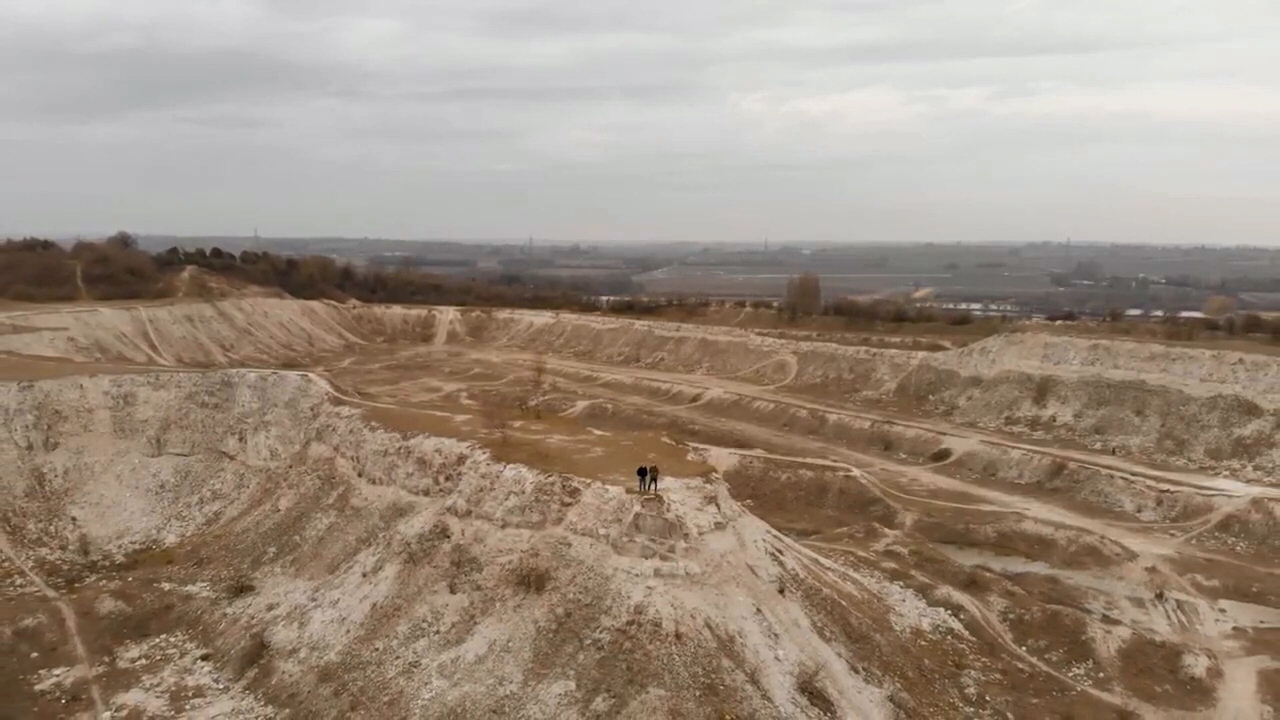insan: (633, 456, 651, 498), (645, 458, 660, 499)
